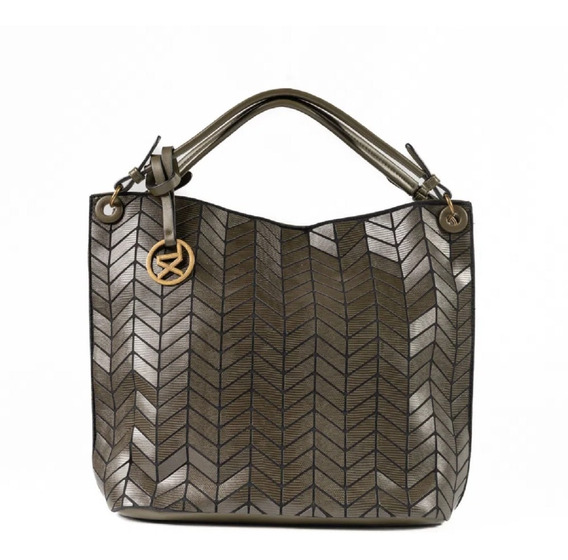cartera: (83, 86, 478, 532)
